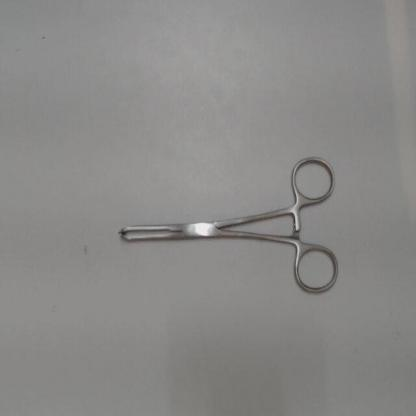Allis Tissue Forceps: (109, 146, 343, 308)
